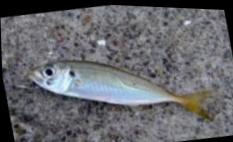fish: (26, 59, 215, 117)
